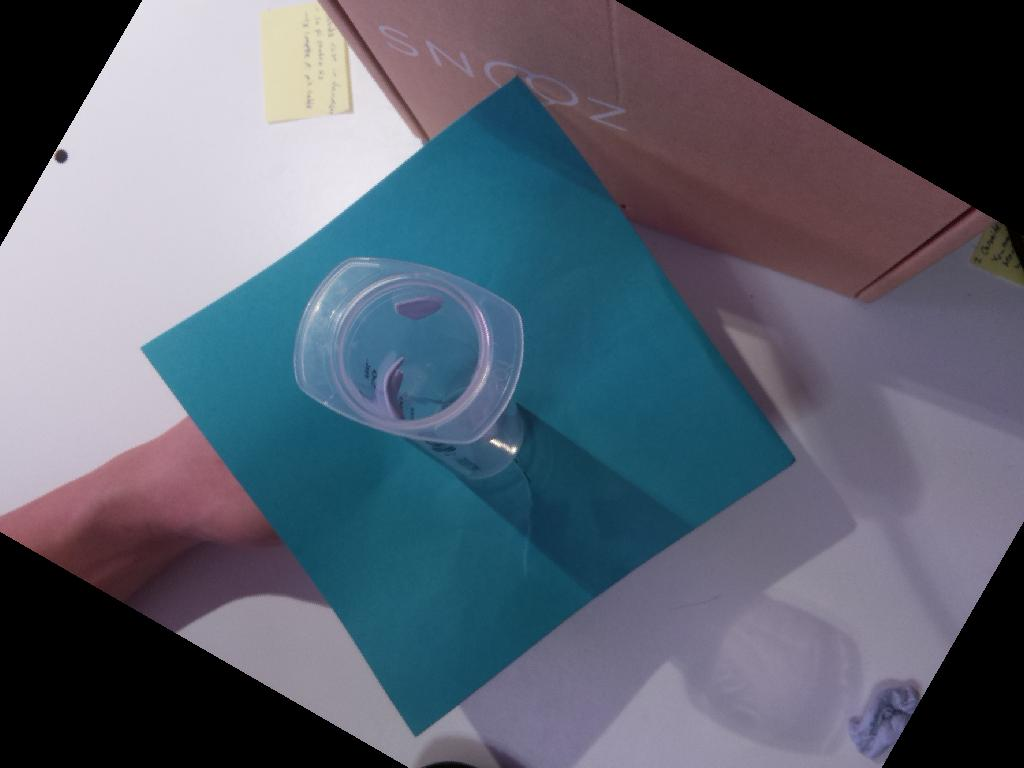dirty: (293, 257, 523, 444)
